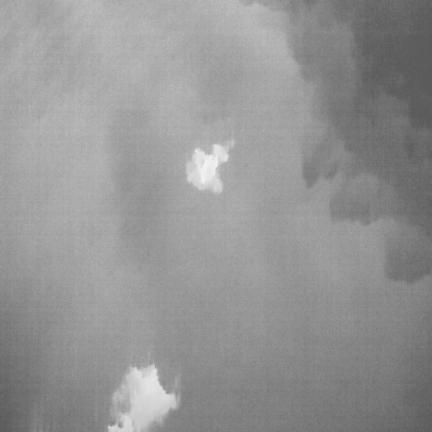flukeprints: (107, 364, 180, 431), (188, 144, 230, 192)
